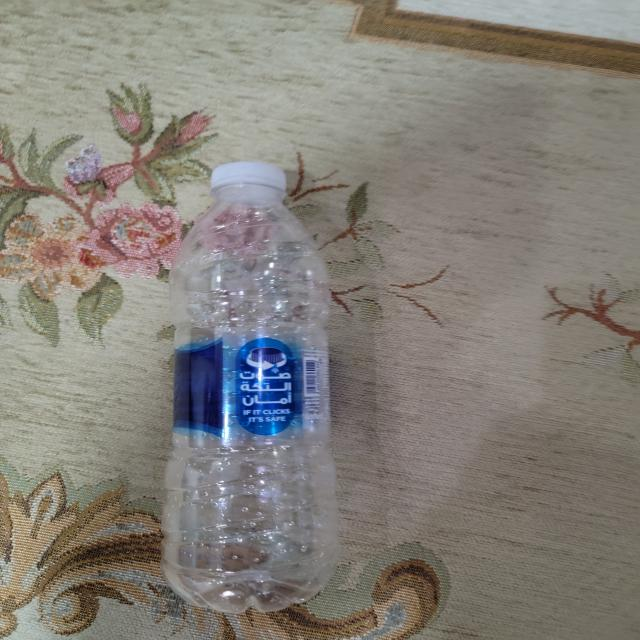Anorganik: (151, 154, 352, 618)
